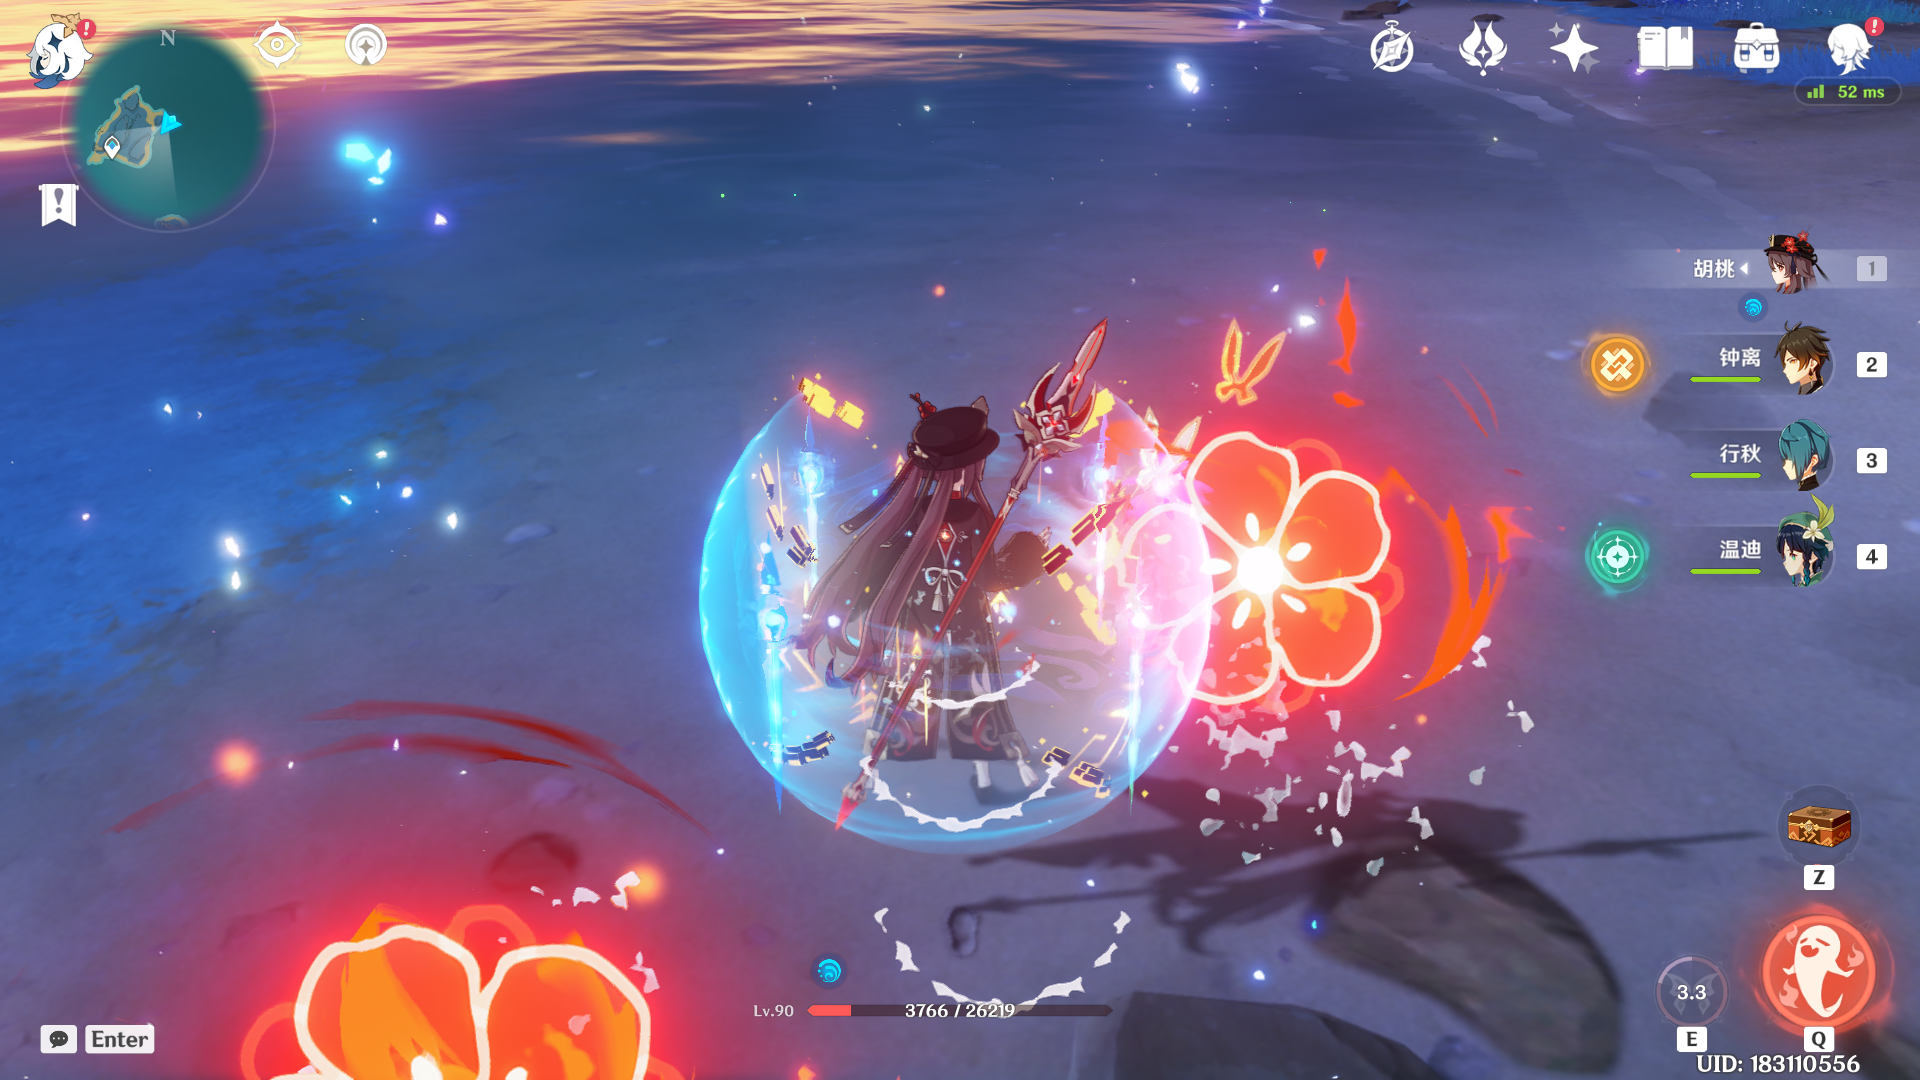character: (752, 367, 1113, 884)
